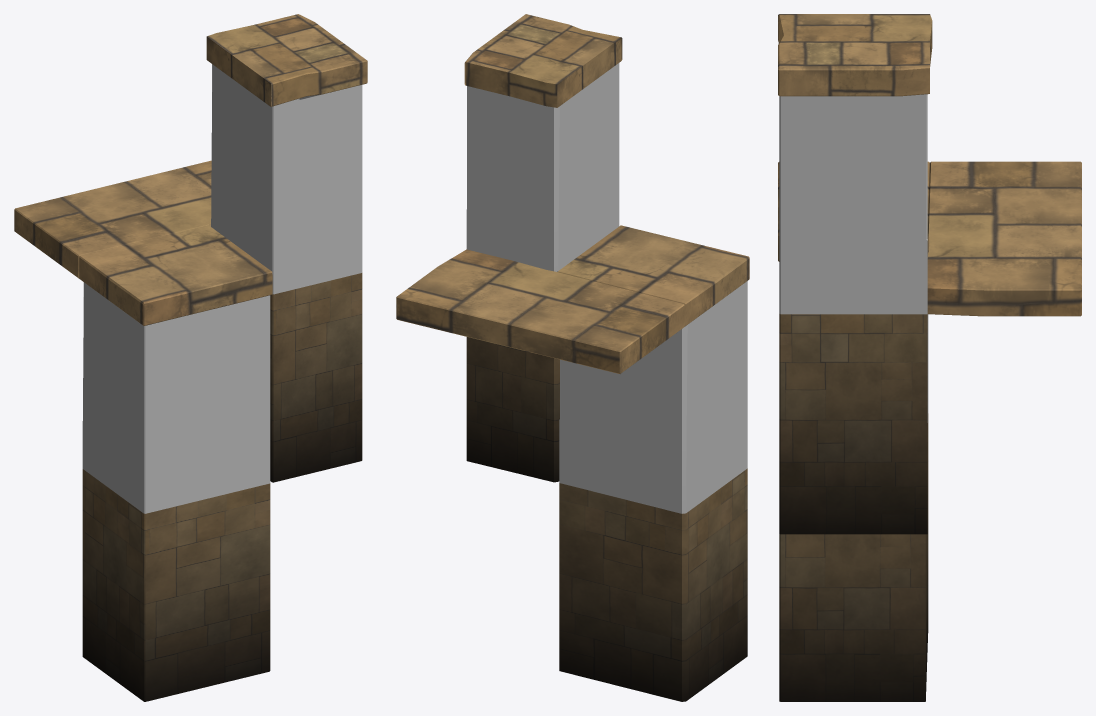
Rendered from AN_PLS.fbx.
3 renders of one model, left to right at view 1: azimuth 30°, elevation 25°; view 2: azimuth 150°, elevation 25°; view 3: azimuth 270°, elevation 25°, orthographic. The views are drawn at different scales.
Parts seen in each view (by area): view 1: AN_PLS_platform, AN_PLS; view 2: AN_PLS_platform, AN_PLS; view 3: AN_PLS, AN_PLS_platform.
Boxes of the visible parts, left/top/right/bottom form: AN_PLS_platform: left=79, top=225, right=272, bottom=701; AN_PLS: left=14, top=14, right=367, bottom=482; AN_PLS_platform: left=557, top=225, right=749, bottom=701; AN_PLS: left=396, top=14, right=684, bottom=482; AN_PLS: left=778, top=14, right=1081, bottom=534; AN_PLS_platform: left=778, top=161, right=929, bottom=701.
Bounding box in the file's own units: 5 × 12.5 × 5.
